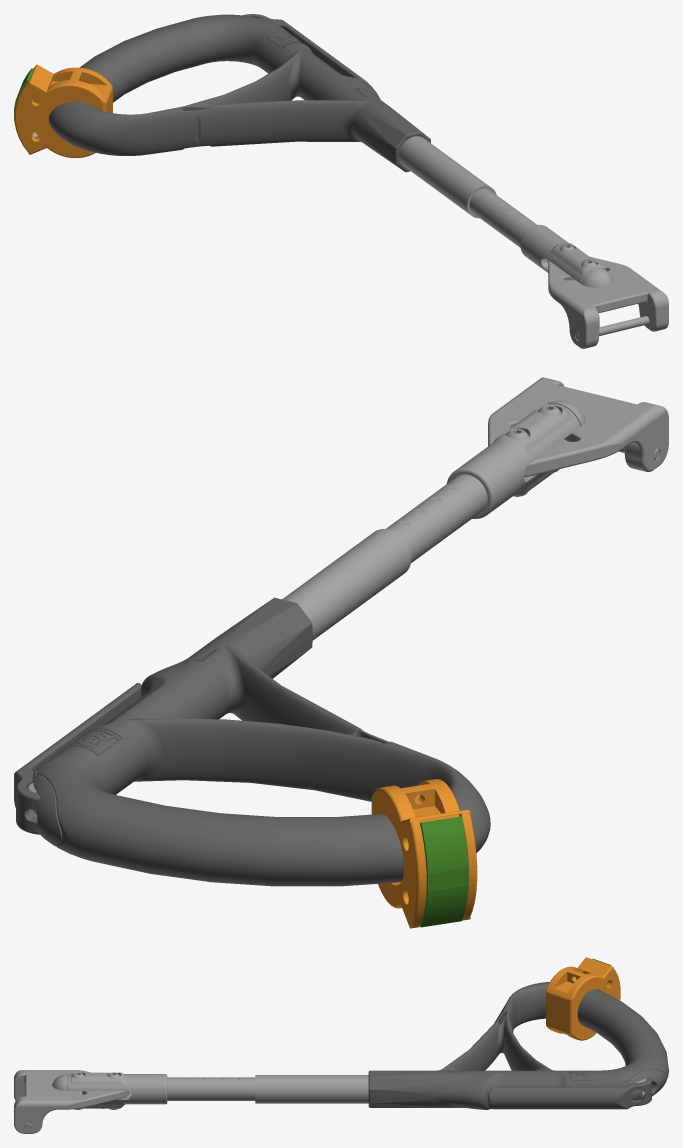
File: handle.dae
3 renders of one model, top to bottom at view 1: azimuth 30°, elevation 25°; view 2: azimuth 150°, elevation 25°; view 3: azimuth 270°, elevation 25°, orthographic. The views are drawn at different scales.
Visible parts, largest first — view 1: HANDLE, HANDLE_RUBBER, GDH1201, Part 5, GDH1307, CAP_20181004, GDH1205, Part 3, LEVER, GDH1203; view 2: HANDLE, HANDLE_RUBBER, GDH1201, GDH1307, Part 5, CAP_20181004, Part 1, GDH1205, LEVER, LEVER_SEAT, Part 3; view 3: HANDLE, HANDLE_RUBBER, LEVER, GDH1201, GDH1307, CAP_20181004, Part 3, GDH1205, Part 5, LEVER_SEAT.
Boxes of the visible parts, x1=… form: HANDLE: x1=109, y1=14, x2=430, y2=172; HANDLE_RUBBER: x1=48, y1=17, x2=247, y2=154; GDH1201: x1=548, y1=256, x2=668, y2=348; Part 5: x1=14, y1=64, x2=78, y2=157; GDH1307: x1=399, y1=136, x2=496, y2=218; CAP_20181004: x1=520, y1=224, x2=604, y2=283; GDH1205: x1=469, y1=188, x2=548, y2=266; Part 3: x1=72, y1=67, x2=112, y2=157; LEVER: x1=243, y1=14, x2=369, y2=84; GDH1203: x1=575, y1=316, x2=649, y2=340; HANDLE: x1=36, y1=597, x2=466, y2=858; HANDLE_RUBBER: x1=75, y1=773, x2=490, y2=886; GDH1201: x1=488, y1=377, x2=668, y2=477; GDH1307: x1=282, y1=529, x2=411, y2=640; Part 5: x1=387, y1=784, x2=477, y2=928; CAP_20181004: x1=446, y1=403, x2=580, y2=518; Part 1: x1=420, y1=816, x2=468, y2=927; GDH1205: x1=386, y1=474, x2=525, y2=562; LEVER: x1=14, y1=683, x2=141, y2=834; LEVER_SEAT: x1=29, y1=769, x2=62, y2=846; Part 3: x1=371, y1=779, x2=445, y2=901; HANDLE: x1=368, y1=987, x2=668, y2=1109; HANDLE_RUBBER: x1=523, y1=982, x2=668, y2=1072; LEVER: x1=488, y1=1076, x2=651, y2=1109; GDH1201: x1=14, y1=1070, x2=129, y2=1133; GDH1307: x1=255, y1=1075, x2=368, y2=1103; CAP_20181004: x1=67, y1=1072, x2=167, y2=1108; Part 3: x1=546, y1=968, x2=589, y2=1040; GDH1205: x1=67, y1=1077, x2=255, y2=1100; Part 5: x1=564, y1=957, x2=620, y2=1037; LEVER_SEAT: x1=621, y1=1069, x2=666, y2=1100.
Bounding box in the file's own units: 0.1637 × 0.3674 × 0.038.
